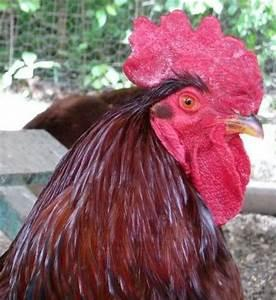hen: (0, 8, 265, 299)
